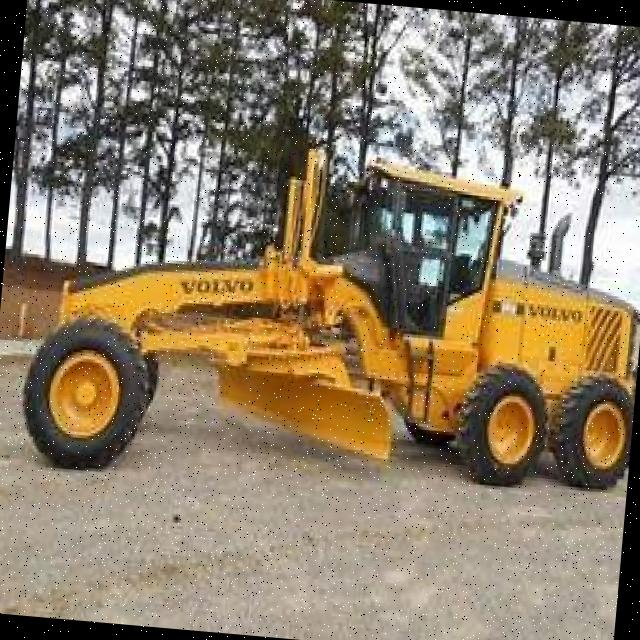Grader: (17, 98, 640, 511)
